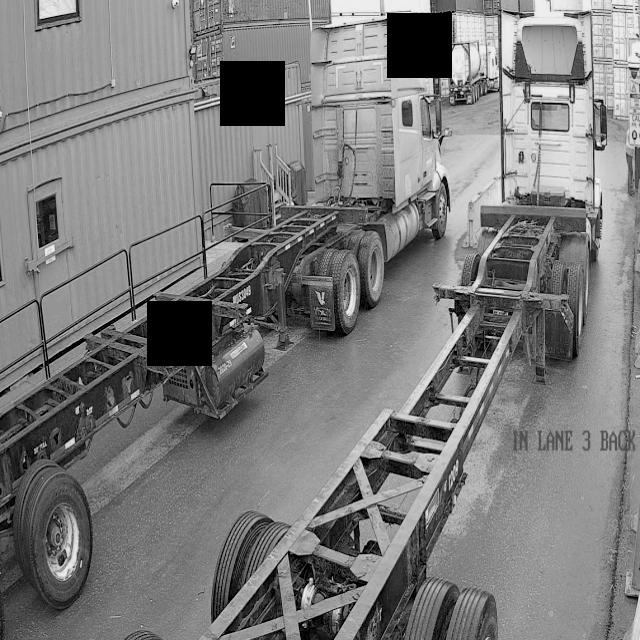truck_without_container: (0, 19, 451, 607), (199, 12, 607, 640)
